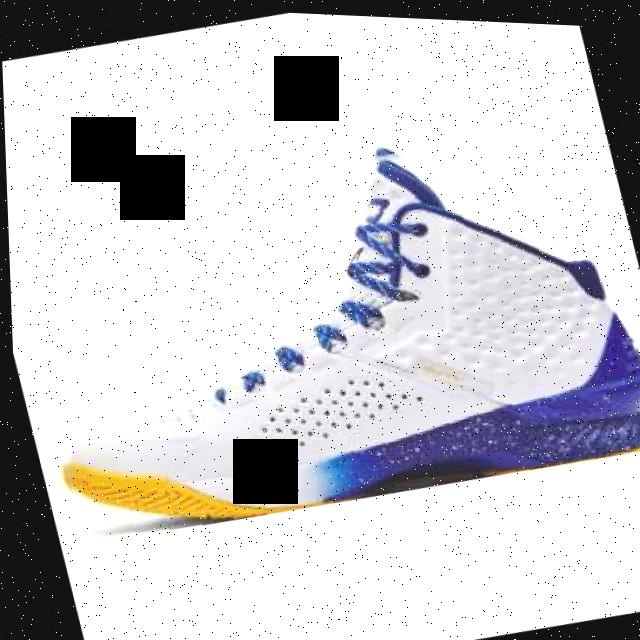shoe: (2, 83, 640, 564)
